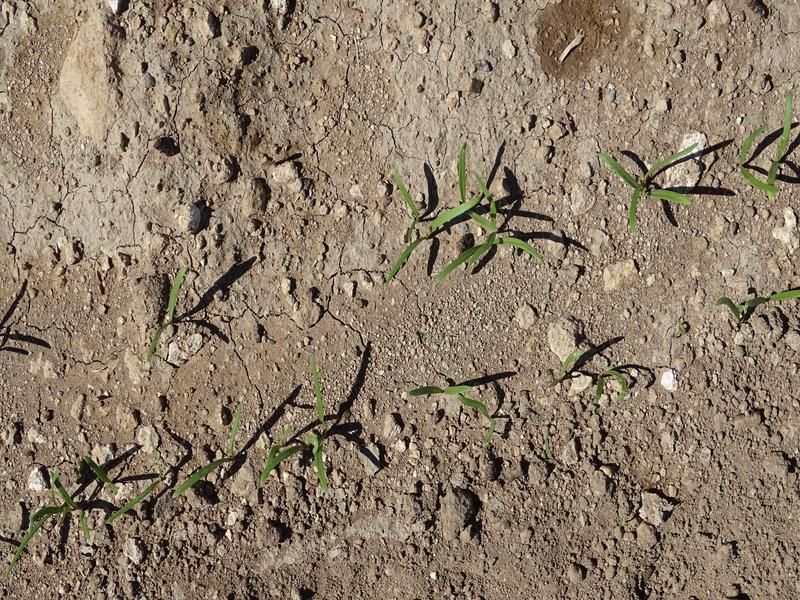Espinaca: (383, 154, 548, 278), (261, 359, 352, 490), (11, 453, 114, 554), (597, 144, 694, 224), (735, 87, 797, 196), (176, 401, 247, 496), (555, 349, 643, 403), (145, 263, 191, 366), (712, 284, 797, 324), (407, 380, 478, 402)
